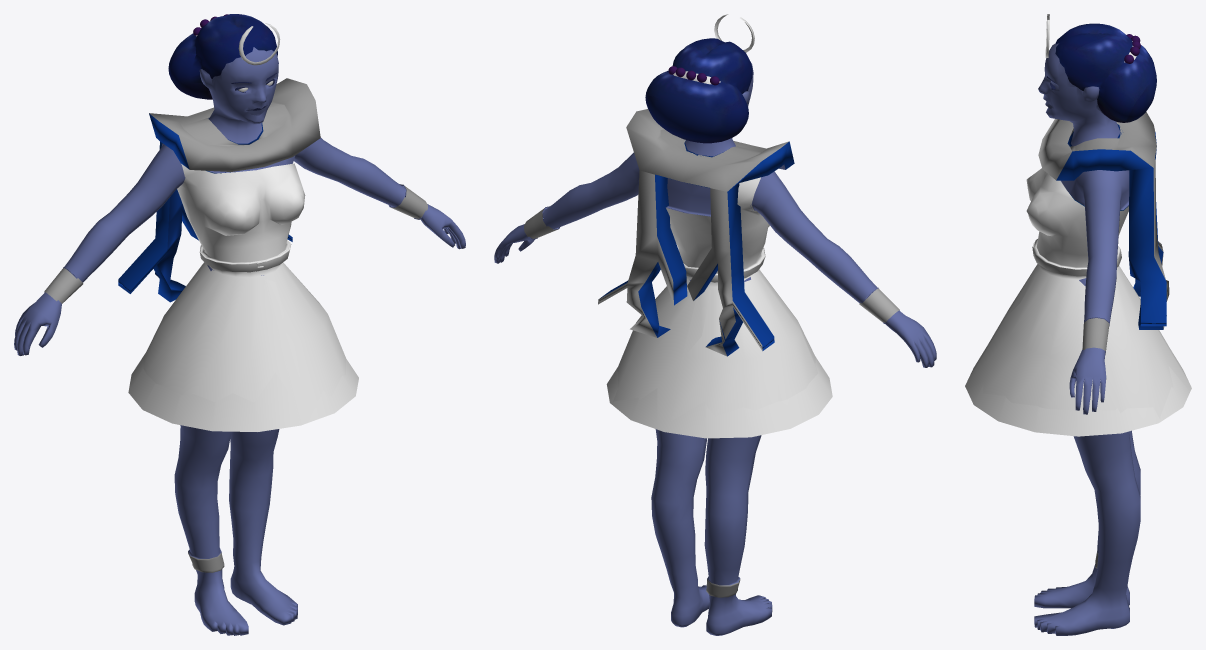
Rendered from Artemis model.fbx.
The picture shows the model from 3 angles, left to right: view 1: azimuth 30°, elevation 25°; view 2: azimuth 150°, elevation 25°; view 3: azimuth 270°, elevation 25°; orthographic projection. The views are drawn at different scales.
Visible parts, largest first — view 1: polySurface15; view 2: polySurface15; view 3: polySurface15.
Boxes of the visible parts, x1=… form: polySurface15: x1=14, y1=14, x2=465, y2=635; polySurface15: x1=494, y1=14, x2=936, y2=635; polySurface15: x1=965, y1=14, x2=1191, y2=635.
Bounding box in the file's own units: 138 × 179 × 61.43.
Materials: 30 (1 with a texture image).
